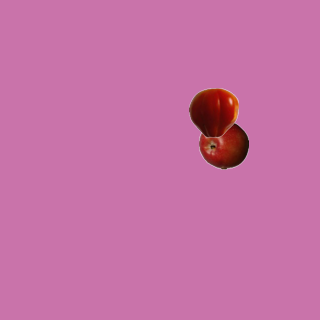Apple Braeburn: (198, 119, 248, 169)
Tomato 1: (188, 87, 238, 137)
